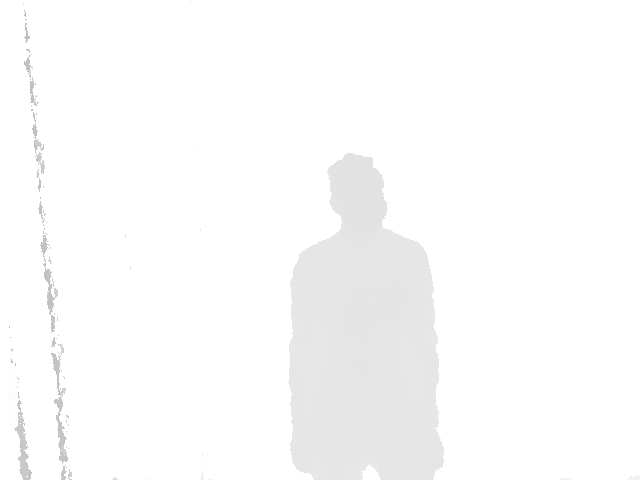head: (326, 153, 387, 229)
person: (287, 153, 444, 480)
